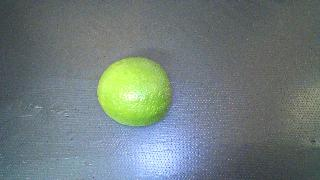EXPORTACION: (97, 57, 173, 126)
